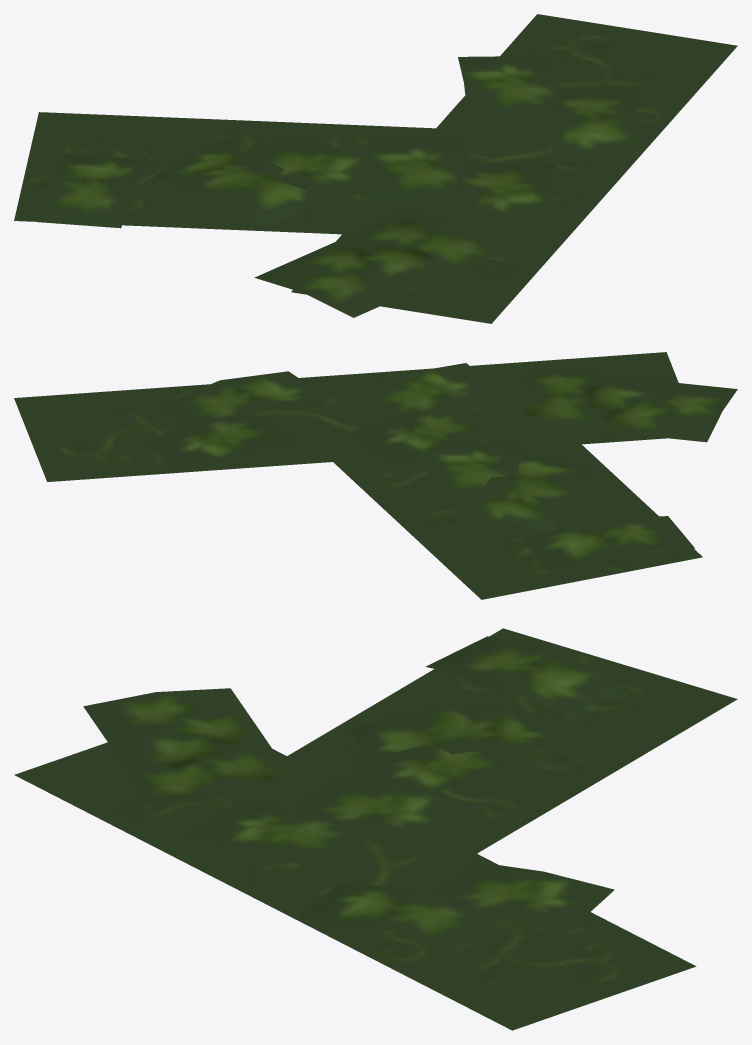
Rendered from Ivy4.fbx.
3 views of the same model, one above another, from view 1: azimuth 30°, elevation 25°; view 2: azimuth 150°, elevation 25°; view 3: azimuth 270°, elevation 25° (orthographic). The views are drawn at different scales.
Parts seen in each view (by area): view 1: Ivy4; view 2: Ivy4; view 3: Ivy4.
Part boxes in pixels (x1,y1,x2,y2): Ivy4: (14, 14, 737, 323); Ivy4: (14, 352, 737, 599); Ivy4: (14, 628, 737, 1030).
Size of the model in its own units: 458 by 9.5 by 353.
1 material, 1 textured.
